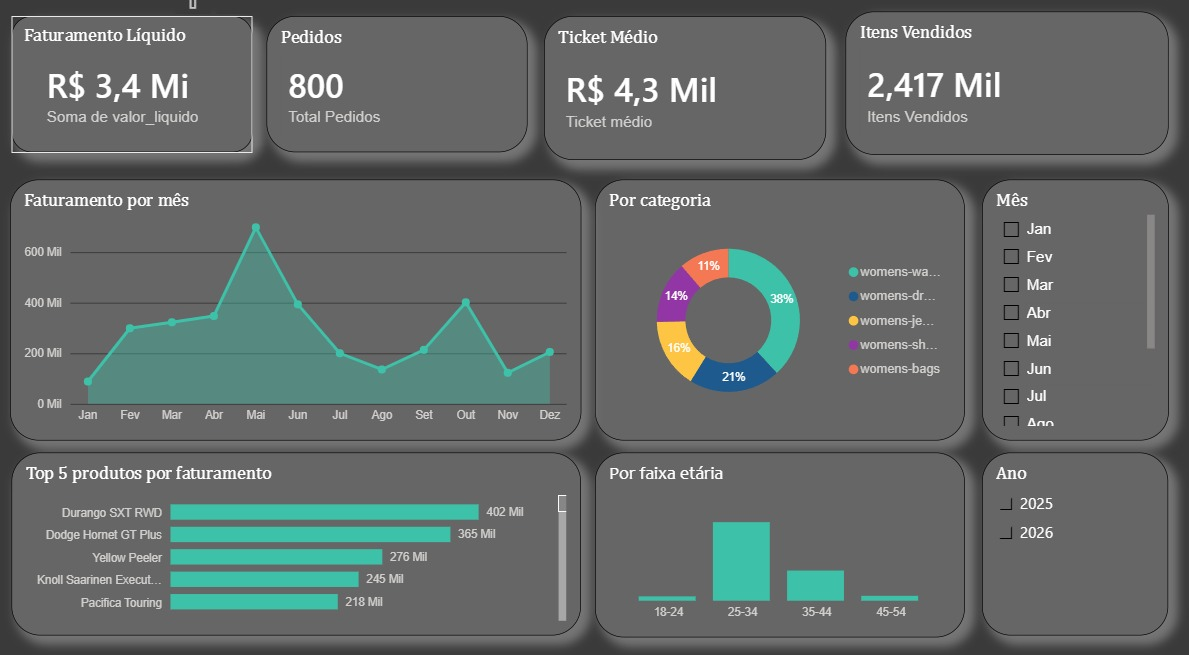

The dashboard page shown, as its layout file describes it:
{"tool":"powerbi","page":{"name":"Página 1","canvas":[1280,720],"ordinal":0},"visuals":[{"type":"cardVisual","title":"Faturamento Líquido","fields":{"Data":["Sum(vendas_completo.valor_liquido)"]},"box":[45.4,52.9,251.3,141.7],"z":0},{"type":"cardVisual","title":"Pedidos","fields":{"Data":["vendas_completo.Total Pedidos"]},"box":[311.8,52.9,272.1,141.7],"z":1000},{"type":"donutChart","title":"Por categoria","fields":{"Category":["dim_produtos.categoria"],"Y":["Sum(vendas_completo.valor_liquido)"]},"box":[653.9,223,385.5,272.1],"z":2000},{"type":"lineChart","title":"Faturamento por mês","fields":{"Y":["Sum(vendas_completo.valor_liquido)"],"Category":["vendas_completo.nome_mes"]},"box":[43.5,223,595.3,272.1],"z":3000},{"type":"slicer","title":"Mês","fields":{"Values":["vendas_completo.nome_mes"]},"box":[1056.4,223,194.6,272.1],"z":4000},{"type":"barChart","title":"Top 5 produtos por faturamento","fields":{"Category":["dim_produtos.titulo"],"Y":["Sum(vendas_completo.valor_liquido)"]},"box":[45.4,508.4,593.4,190.9],"z":5000},{"type":"columnChart","title":"Por faixa etária","fields":{"Y":["Sum(vendas_completo.valor_liquido)"],"Category":["dim_clientes.faixa_etaria"]},"box":[653.9,508.4,385.5,192.8],"z":6000},{"type":"actionButton","box":[0,0,100,40],"z":6001},{"type":"cardVisual","title":"Ticket Médio","fields":{"Data":["vendas_completo.Ticket médio"]},"box":[600.2,53.1,293.8,150],"z":6002},{"type":"listSlicer","title":"Ano","fields":{"Values":["dim_calendario.ano"]},"box":[1056.6,508,193.8,190.7],"z":6003},{"type":"cardVisual","title":"Itens Vendidos","fields":{"Data":["vendas_completo.Itens Vendidos"]},"box":[914.7,49.1,336.4,149.3],"z":6004}]}

Visuals, with their boxes in screenshot pixels (x1, y1, x2, y2), scaled from the page's 1280x720 canvas onto the 1189x655 screenshot:
"Faturamento Líquido" cardVisual: detection(42, 48, 276, 177)
"Pedidos" cardVisual: detection(290, 48, 542, 177)
"Por categoria" donutChart: detection(607, 203, 966, 450)
"Faturamento por mês" lineChart: detection(40, 203, 593, 450)
"Mês" slicer: detection(981, 203, 1162, 450)
"Top 5 produtos por faturamento" barChart: detection(42, 463, 593, 636)
"Por faixa etária" columnChart: detection(607, 463, 966, 638)
actionButton: detection(0, 0, 93, 36)
"Ticket Médio" cardVisual: detection(558, 48, 830, 185)
"Ano" listSlicer: detection(981, 462, 1162, 636)
"Itens Vendidos" cardVisual: detection(850, 45, 1162, 180)
